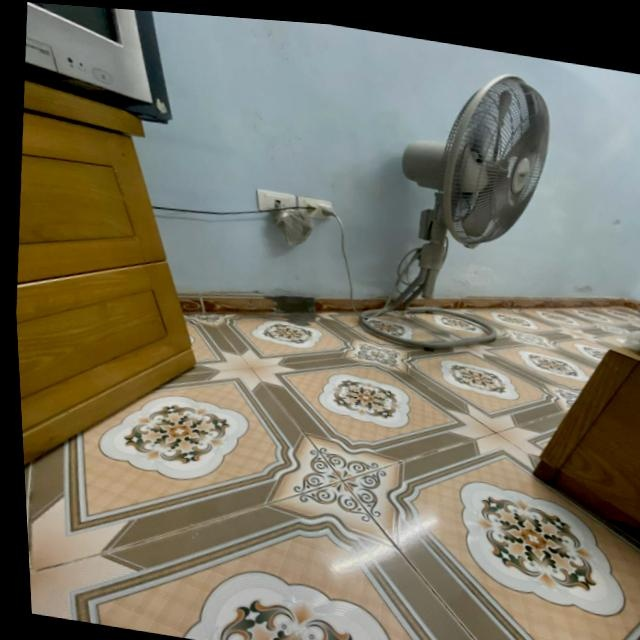outlet: (254, 189, 298, 217), (295, 195, 333, 220)
